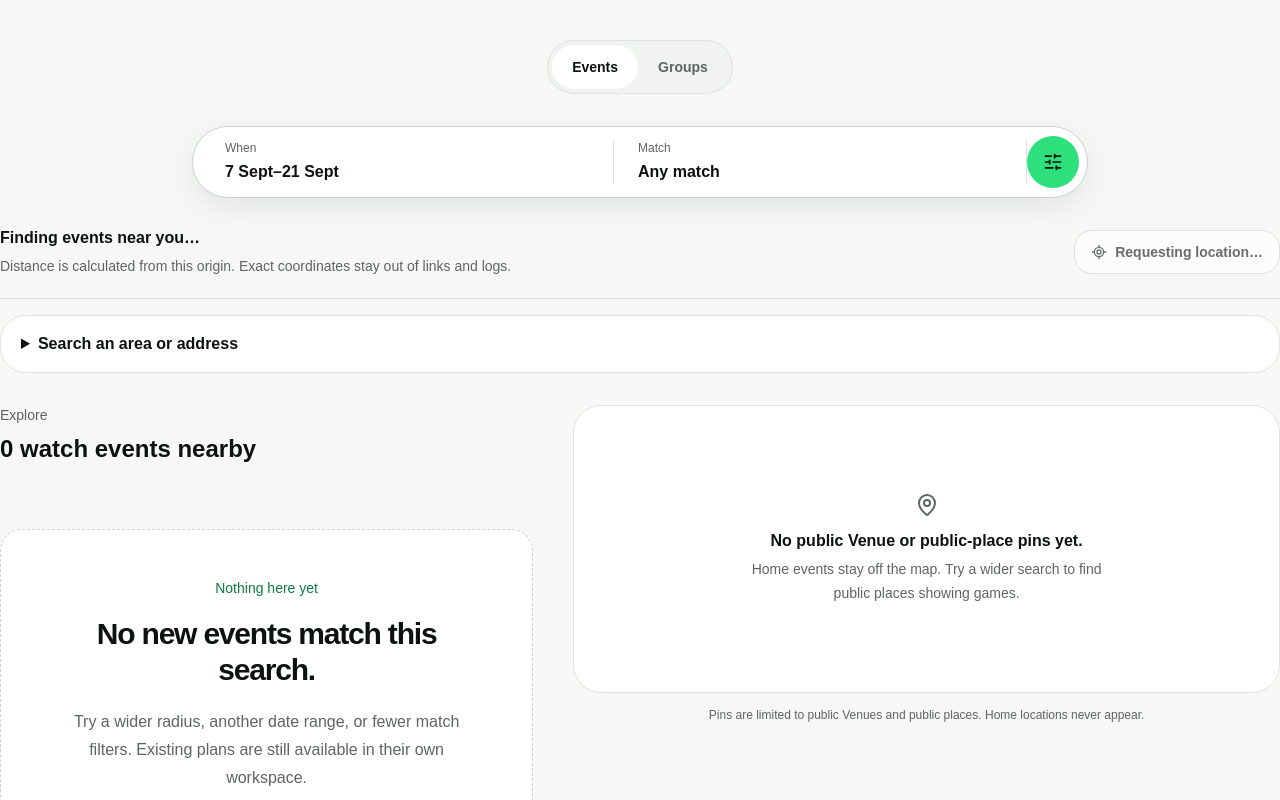
DiscoverPage › opens one focused Where, When, and Match editor without duplicating the search
This screenshot has width=1280, height=800.
What coordinates should you click on to do the following:
click the button with aria-label "Change Explore search"
I would click on:
 (640, 162)
Its box is left=192, top=126, right=1088, bottom=198.
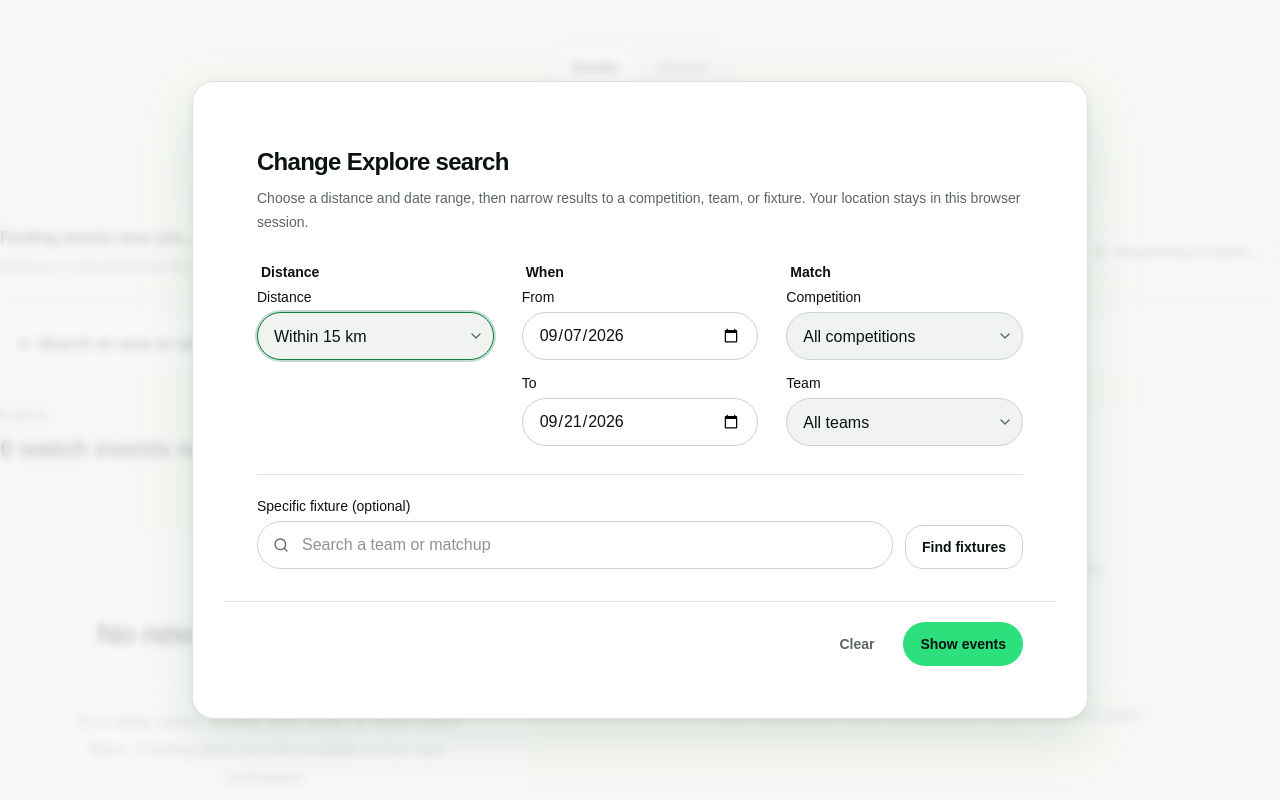
expect the dialog "Change Explore search" is shown: met, box left=192, top=81, right=1088, bottom=719
expect the text "Distance" is shown: met, box left=257, top=262, right=323, bottom=282
expect the text "When" is shown: met, box left=526, top=264, right=564, bottom=280
